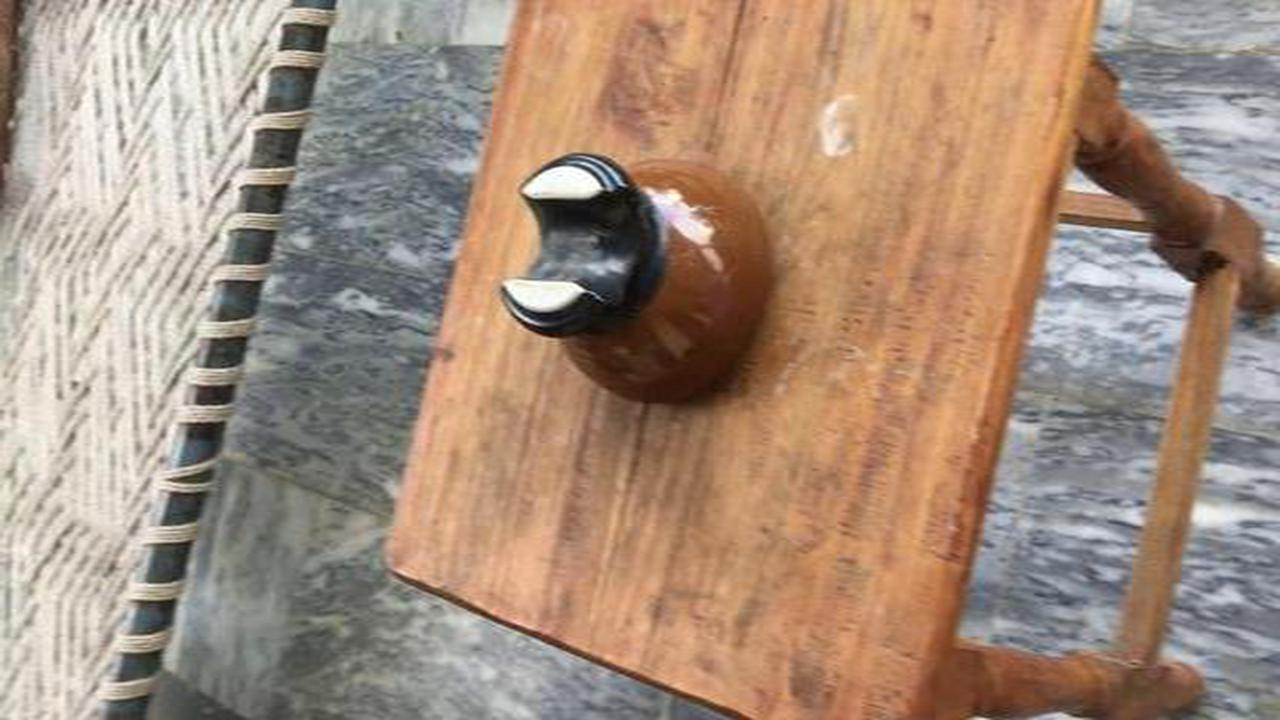insulator_pin: (484, 142, 804, 414)
